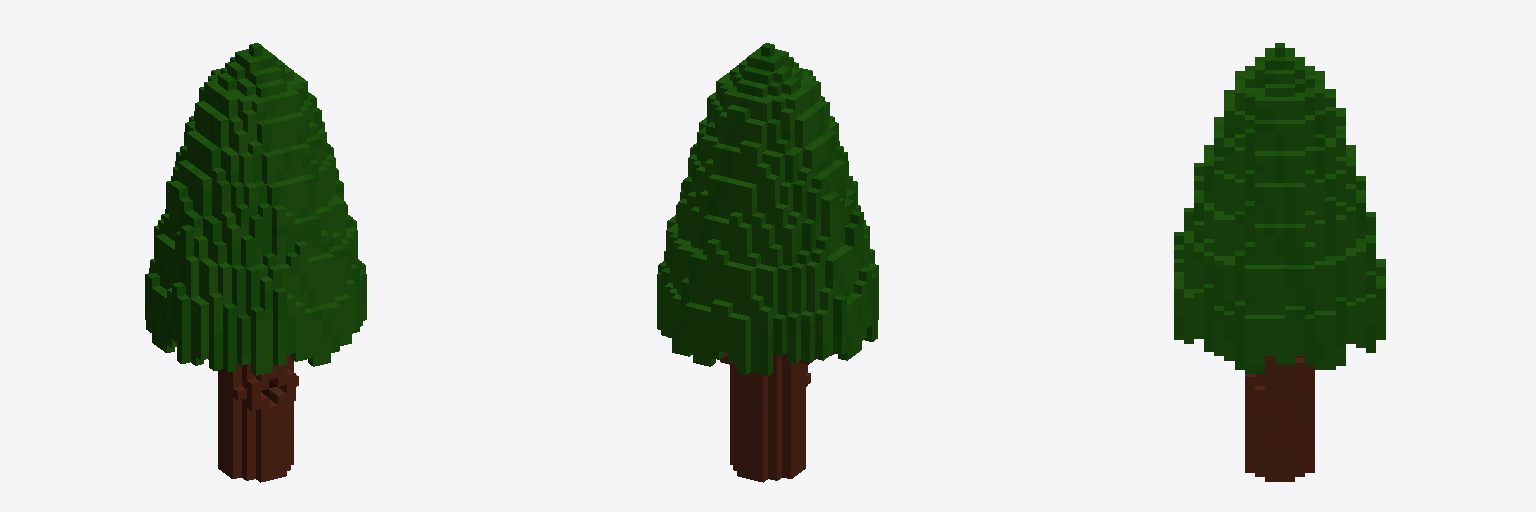
3 renders of one model, left to right at view 1: azimuth 30°, elevation 25°; view 2: azimuth 150°, elevation 25°; view 3: azimuth 270°, elevation 25°, orthographic.
Visible parts, largest first — view 1: object 1; view 2: object 1; view 3: object 1.
Part boxes in pixels (x1,y1,x2,y2): object 1: (145, 43, 366, 482); object 1: (657, 43, 878, 482); object 1: (1174, 43, 1385, 481).
Size of the model in its own units: 2.1 by 4.6 by 2.1.
1 materials, 1 textured.